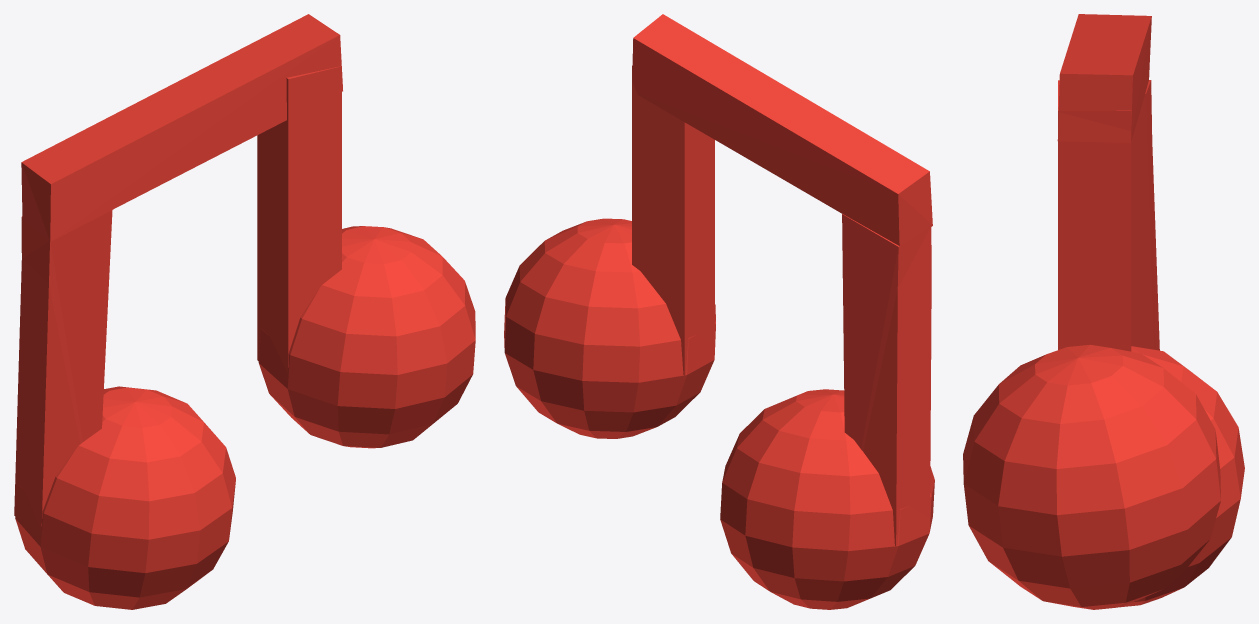
Rendered from red_note_obj.obj.
The picture shows the model from 3 angles, left to right: view 1: azimuth 30°, elevation 25°; view 2: azimuth 150°, elevation 25°; view 3: azimuth 270°, elevation 25°; orthographic projection. The views are drawn at different scales.
Visible parts, largest first — view 1: group1947562810, group2141155923, group38028735, group444216313, group1592007617; view 2: group2141155923, group1947562810, group38028735, group444216313, group1592007617; view 3: group2141155923, group1592007617, group38028735, group444216313, group1947562810.
Boxes of the visible parts, left/top/right/bottom form: group1947562810: left=15, top=386, right=235, bottom=609; group2141155923: left=258, top=226, right=475, bottom=448; group38028735: left=21, top=14, right=342, bottom=241; group444216313: left=14, top=210, right=112, bottom=532; group1592007617: left=257, top=66, right=341, bottom=373; group2141155923: left=504, top=218, right=715, bottom=438; group1947562810: left=720, top=389, right=934, bottom=609; group38028735: left=632, top=14, right=932, bottom=245; group444216313: left=842, top=214, right=931, bottom=545; group1592007617: left=632, top=65, right=714, bottom=375; group2141155923: left=963, top=344, right=1220, bottom=609; group1592007617: left=1058, top=80, right=1131, bottom=351; group38028735: left=1057, top=14, right=1151, bottom=142; group444216313: left=1131, top=80, right=1159, bottom=350; group1947562810: left=1119, top=346, right=1244, bottom=607.
Bounding box in the file's own units: 4.85 × 5.9 × 2.39.
